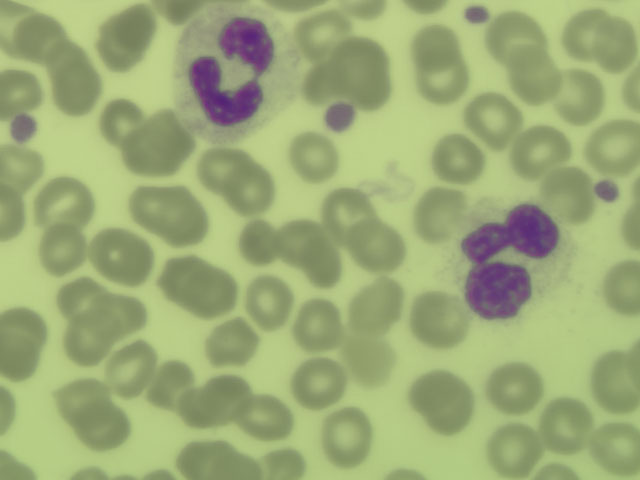Platelets: (327, 105, 354, 133), (12, 115, 37, 141), (594, 178, 621, 201), (463, 6, 491, 26)
RBC: (319, 404, 370, 467), (537, 400, 593, 456), (408, 297, 465, 348), (349, 222, 408, 270), (466, 94, 524, 142), (593, 352, 640, 410), (581, 122, 640, 168), (122, 129, 176, 178), (37, 183, 94, 229), (418, 53, 470, 103), (159, 186, 206, 241), (319, 193, 376, 238), (557, 10, 608, 58), (592, 424, 640, 475), (148, 109, 194, 162), (434, 132, 484, 180), (239, 396, 296, 438), (286, 134, 338, 180), (296, 362, 346, 409), (513, 45, 557, 97), (558, 72, 602, 124), (78, 403, 132, 445), (56, 383, 111, 424), (162, 259, 216, 300), (54, 65, 102, 111), (249, 277, 295, 325), (107, 348, 156, 393), (349, 339, 398, 384), (296, 300, 339, 351), (207, 375, 254, 421), (489, 425, 535, 472), (278, 216, 323, 264), (517, 129, 573, 167), (413, 198, 467, 237), (196, 151, 252, 188), (41, 226, 87, 271), (93, 299, 148, 336), (229, 167, 273, 213), (64, 316, 106, 363), (598, 22, 640, 68), (550, 175, 592, 221), (63, 279, 110, 320), (606, 262, 640, 318), (491, 18, 540, 56), (300, 243, 343, 286), (15, 19, 61, 59), (1, 335, 43, 378), (191, 272, 233, 315), (411, 370, 453, 413), (435, 384, 475, 429), (43, 36, 89, 75), (492, 368, 538, 407), (210, 322, 254, 362), (97, 21, 133, 69), (1, 72, 42, 114), (100, 100, 140, 143), (1, 310, 45, 349), (337, 38, 381, 77), (300, 15, 345, 53), (351, 70, 393, 110), (413, 26, 457, 64), (117, 242, 158, 281), (115, 9, 159, 45), (351, 301, 392, 339), (94, 229, 130, 272), (240, 224, 280, 262), (2, 7, 35, 53), (158, 365, 195, 405), (3, 147, 39, 186), (183, 384, 216, 426), (131, 186, 162, 230), (1, 448, 43, 480), (268, 447, 308, 480), (363, 283, 405, 313), (305, 64, 342, 97), (206, 442, 238, 480), (2, 191, 28, 237), (175, 445, 213, 476), (537, 457, 582, 480), (154, 1, 203, 21), (231, 453, 267, 480), (624, 68, 640, 115), (342, 1, 386, 18), (623, 211, 640, 245)
WBC: (460, 205, 562, 321), (184, 16, 292, 125)
